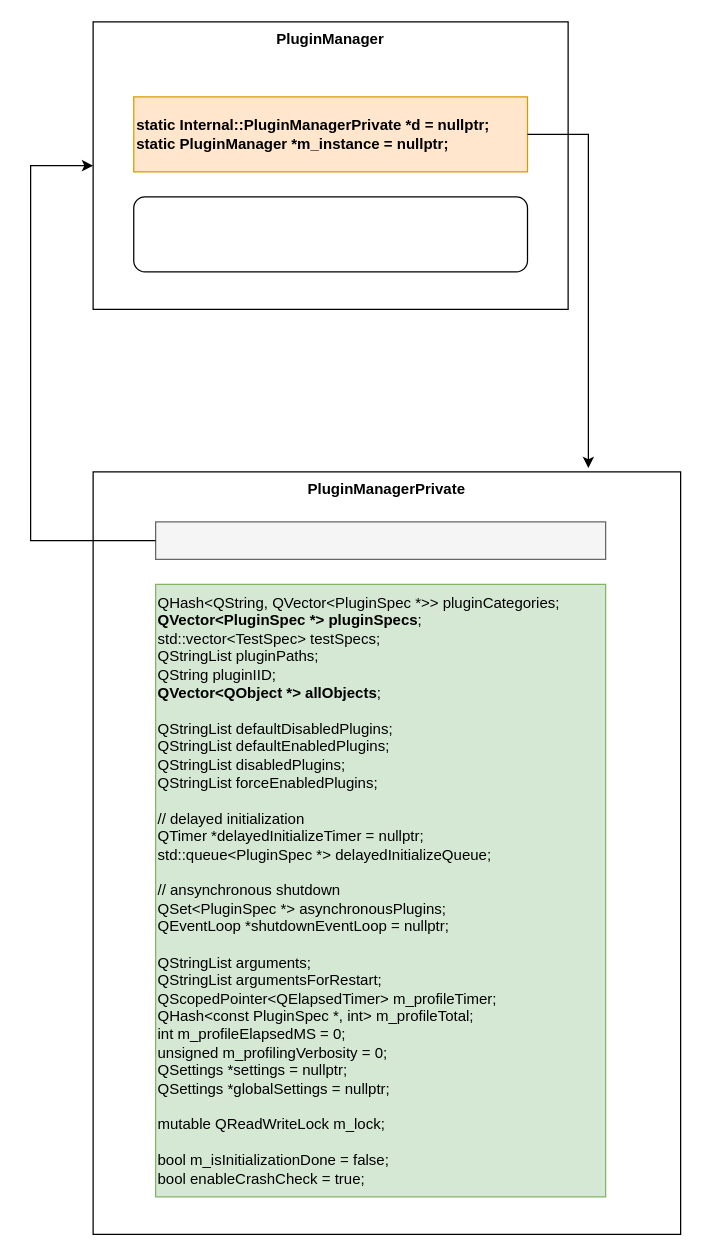
Image size: 703x1256. Some labels were removed from this diagram. The shapes that lost their labels are listed below. From the top down, each one's centre as x and y in pixels, then its label:
the point at 330,234: friend class Internal::PluginManagerPrivate;
the point at 380,540: PluginManager *q;
